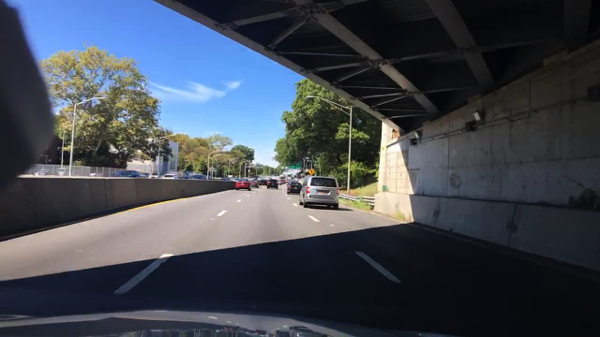car: (298, 177, 339, 210), (108, 169, 140, 179), (55, 167, 74, 179), (287, 181, 302, 196), (35, 167, 59, 176), (264, 178, 279, 190), (235, 180, 251, 191), (189, 173, 207, 182), (246, 178, 261, 187), (162, 174, 178, 181), (176, 171, 188, 180), (257, 177, 267, 187), (148, 171, 159, 179), (229, 176, 239, 182), (276, 177, 282, 186), (220, 176, 229, 181), (284, 177, 290, 184)
traffic sign: (285, 158, 302, 170), (247, 161, 264, 168), (308, 167, 317, 175), (154, 155, 163, 160), (208, 166, 216, 171), (154, 162, 163, 165)
